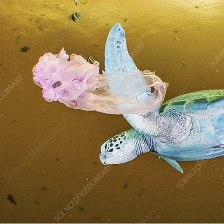plastic_bag: (29, 45, 173, 117)
